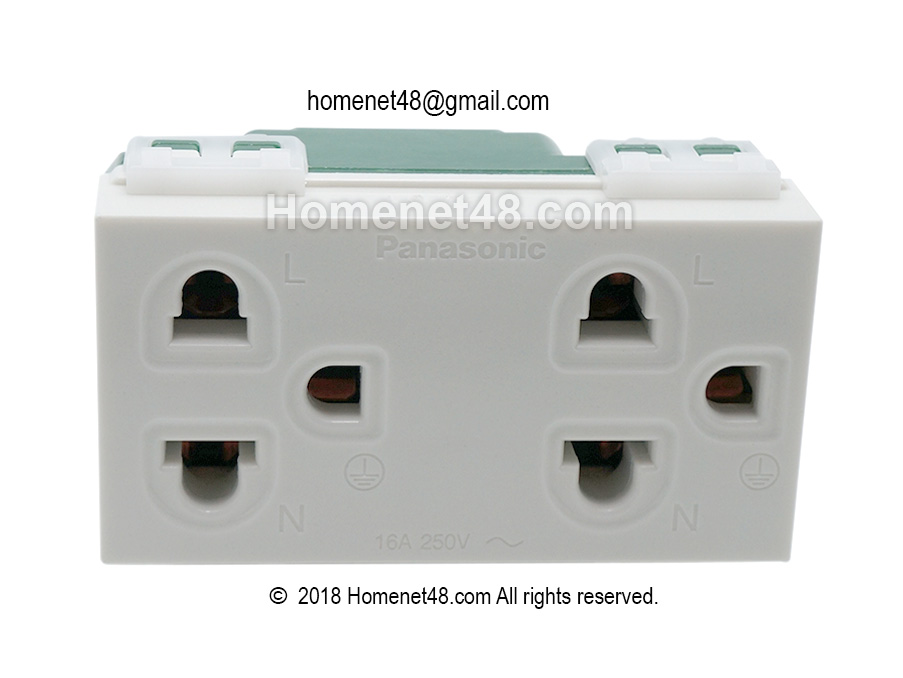Three_eye_plug: (84, 119, 830, 579)
